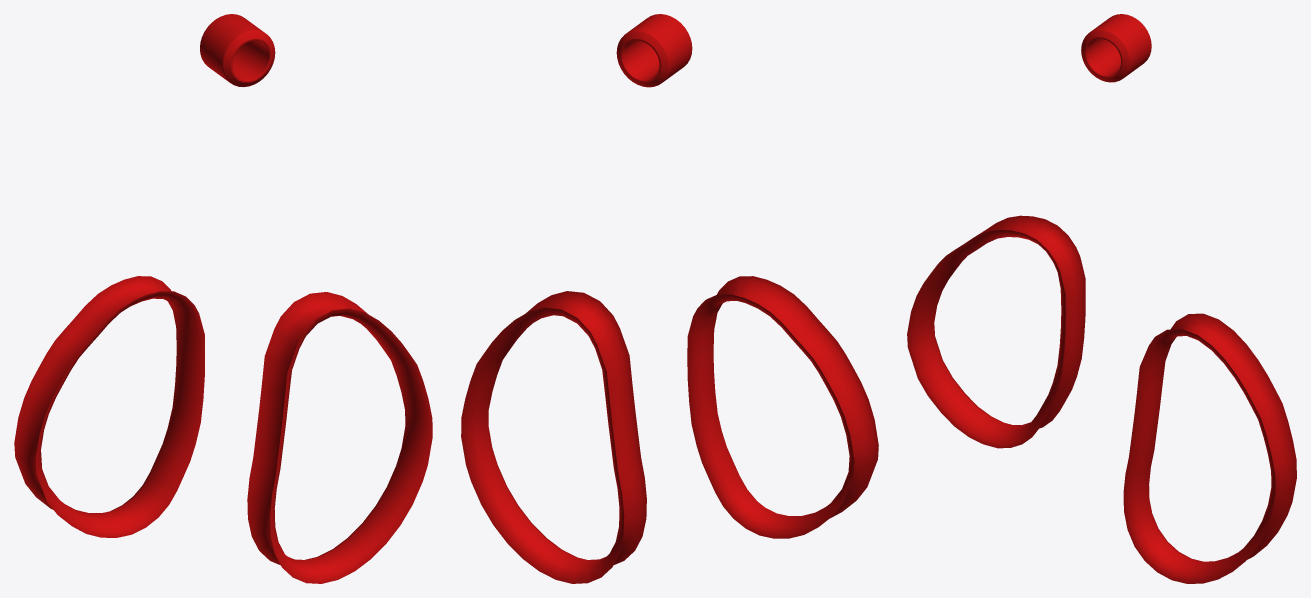
The picture shows the model from 3 angles, left to right: view 1: azimuth 30°, elevation 25°; view 2: azimuth 150°, elevation 25°; view 3: azimuth 330°, elevation 25°; orthographic projection. The views are drawn at different scales.
Bounding box in the file's own units: 0.3461 × 0.4761 × 0.042.
